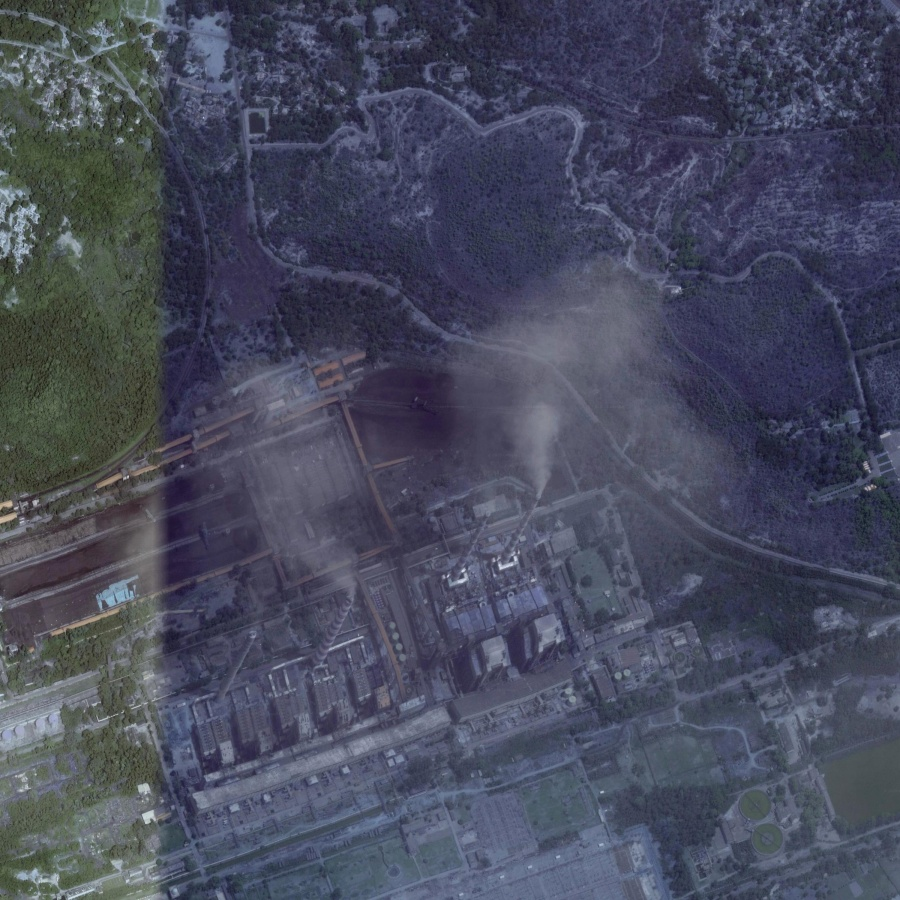PowerPlant: (189, 346, 644, 759)
